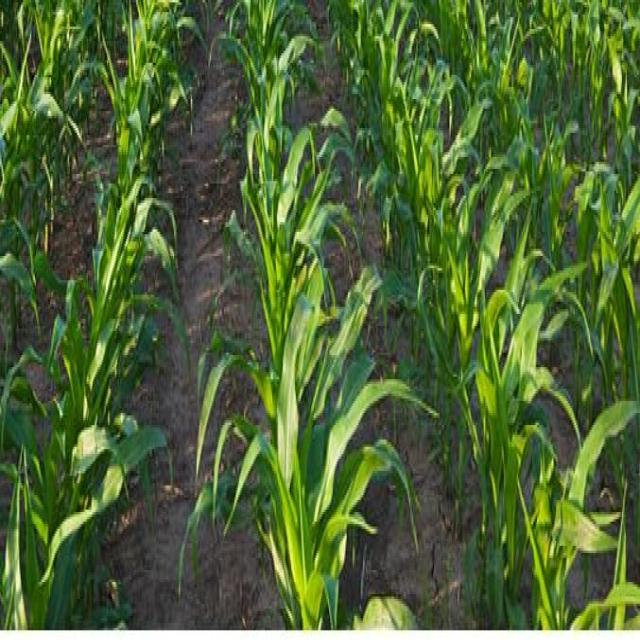row: (293, 0, 504, 636), (76, 0, 266, 637)
